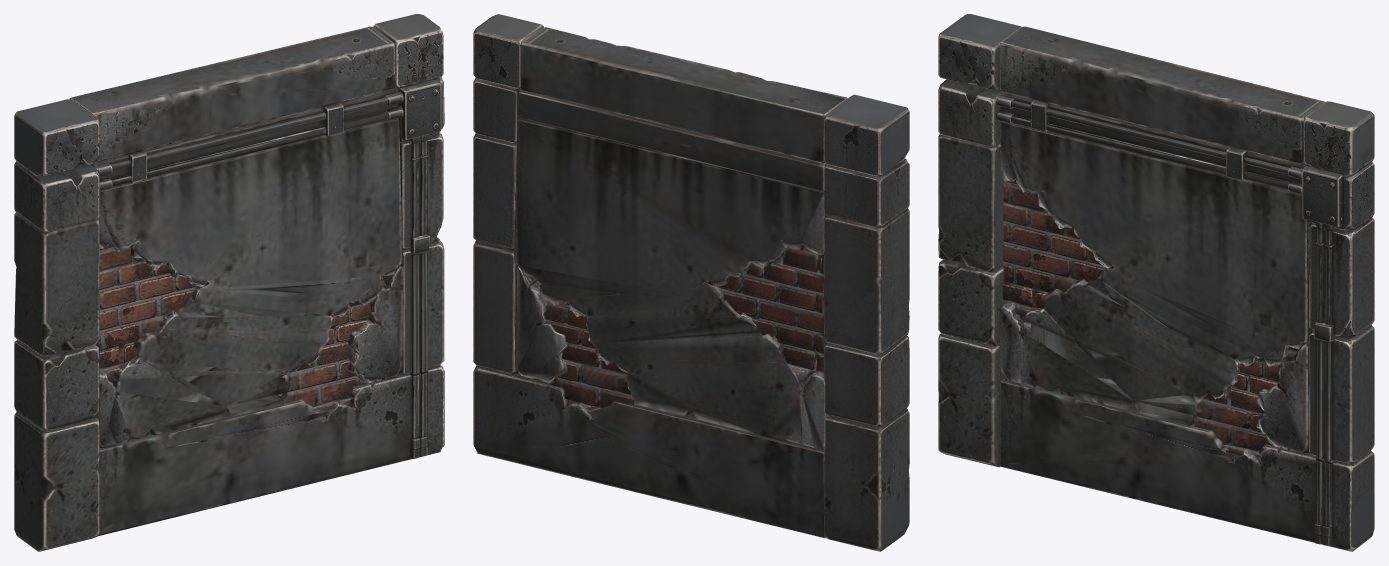
The model's file is wall_opt.glb.
3 views of the same model, side by side, from view 1: azimuth 30°, elevation 25°; view 2: azimuth 150°, elevation 25°; view 3: azimuth 330°, elevation 25° (orthographic).
Bounding box in the file's own units: 0.957 × 0.9536 × 0.1245.
Materials: 1 (1 with a texture image).
